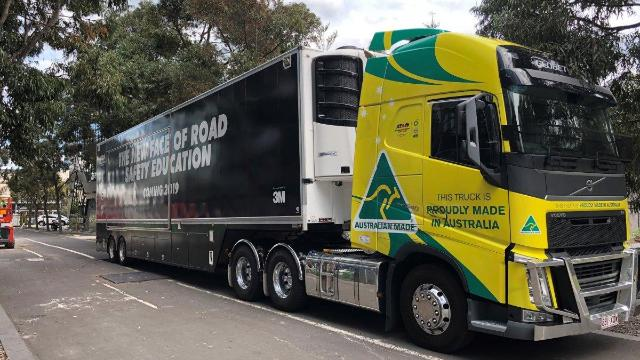truck: (124, 27, 640, 353)
